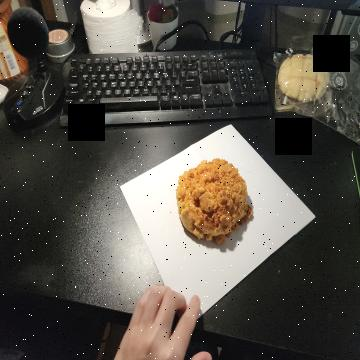soboru_bread: (175, 159, 253, 251)
